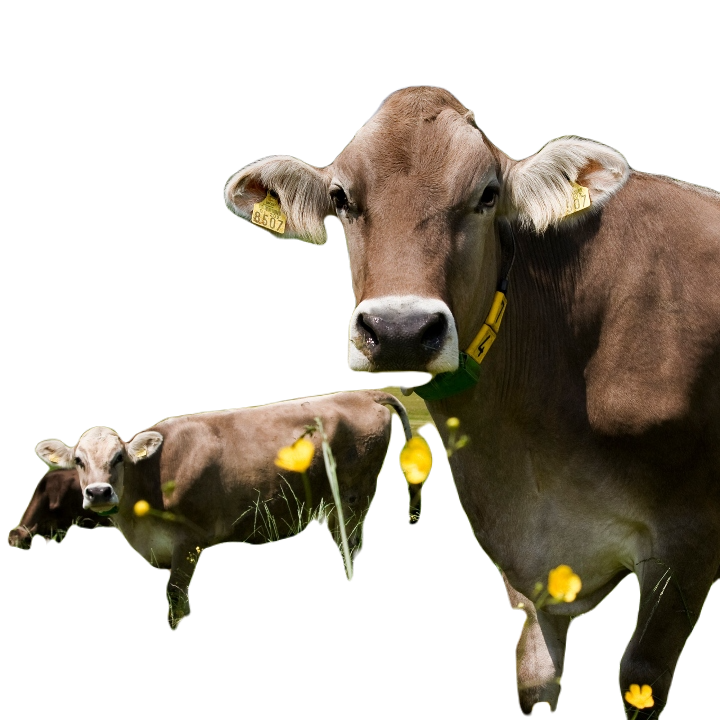Cow: (220, 86, 719, 719)
